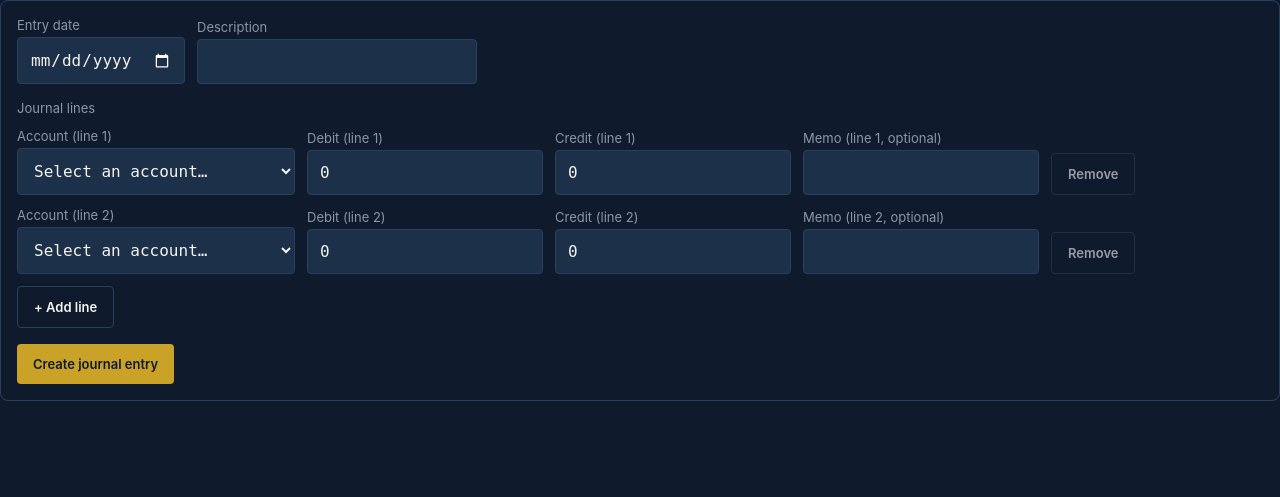
CreateJournalEntryForm › adds a third line when "+ Add line" is clicked
Click the button "+ Add line". click: (66, 307)
box: [17,286,114,328]
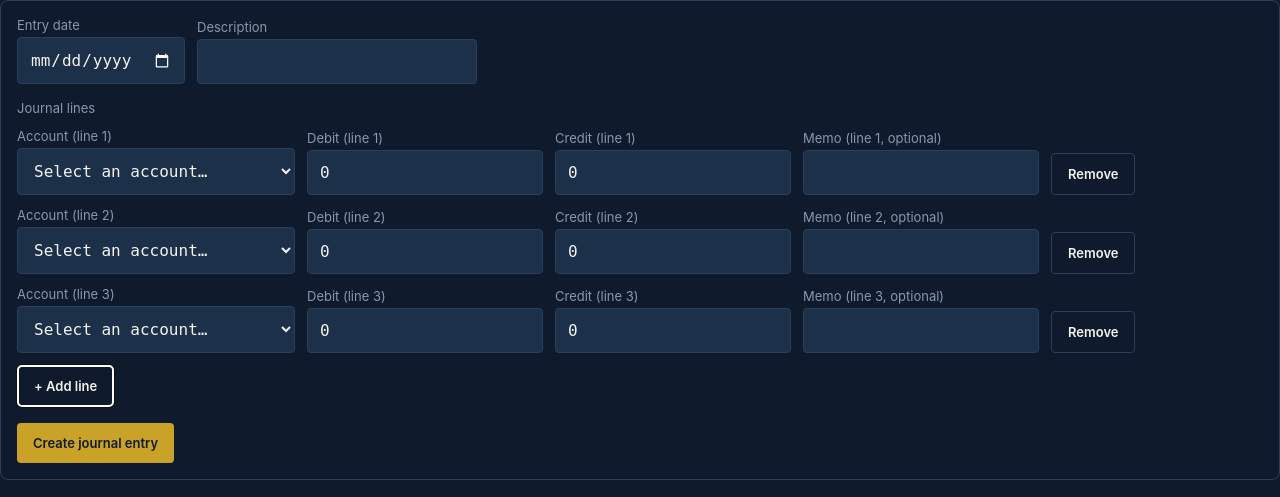
expect the dropdown labelled "Account (line 3)" is shown: met, box [17,306,295,353]
expect the button "Remove" below "Memo (line 1, optional)" is enabled: met, box [1051,153,1136,195]
